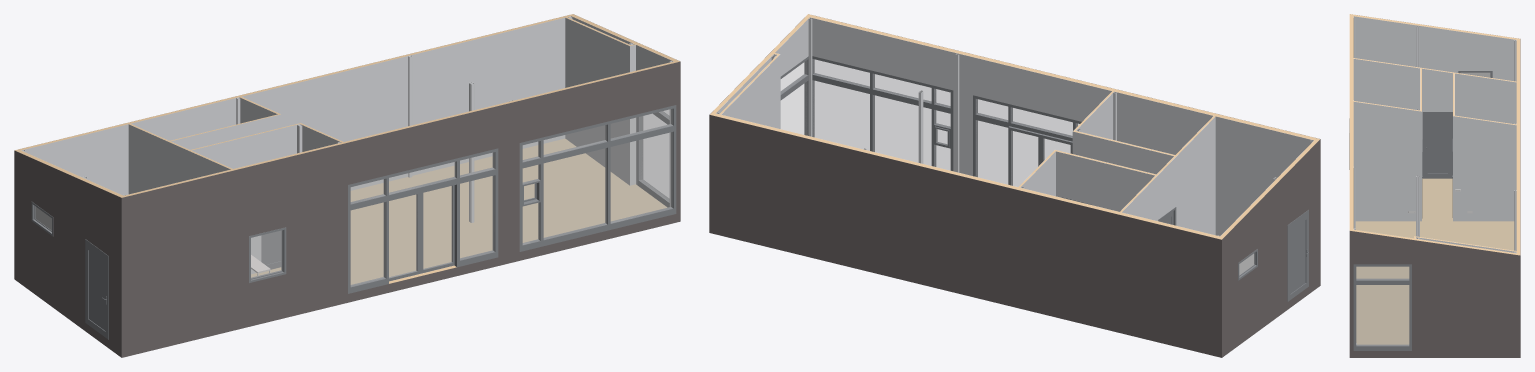
File: Alauša_R04.fbx
3 renders of one model, left to right at view 1: azimuth 30°, elevation 25°; view 2: azimuth 150°, elevation 25°; view 3: azimuth 270°, elevation 25°, orthographic. The views are drawn at different scales.
Visible parts, largest first — view 1: IfcWall/Part:2324350, IfcWall/Part:2323920, IfcSlab/Part:2323923, IfcWindow/Window (Alauša 2):Type 1:1922610, IfcDoor/Window (Alauša):Type 1:1896446, IfcWall/Part:2323912, IfcWall/Part:2324898, IfcWall/Part:2323909, IfcWall/Part:2323897, IfcWindow/Window (Alauša 4):Type 1:1926400, IfcDoor/Durys:1000x2100:1874505, IfcWindow/HM_Window_Frame_Masonry_4692:1000x1200:1879303 (+7 smaller); view 2: IfcWall/Part:2323921, IfcWall/Part:2323914, IfcWall/Part:2323912, IfcWindow/Window (Alauša 2):Type 1:1922610, IfcDoor/Window (Alauša):Type 1:1896446, IfcWall/Part:2323909, IfcWall/Part:2323901, IfcWall/Part:2324898, IfcWall/Part:2323898, IfcWindow/Window (Alauša 4):Type 1:1926400, IfcWall/Part:2323922, IfcWall/Part:2323916 (+7 smaller); view 3: IfcWall/Part:2323918, IfcSlab/Part:2323923, IfcWall/Part:2323903, IfcWall/Part:2323911, IfcWall/Part:2323894, IfcWindow/Window (Alauša 4):Type 1:1926400, IfcWall/Part:2323908, IfcWall/Part:2323907, IfcDoor/Durys:800x2100:1872854, IfcWall/Part:2323906, IfcWall/Part:2323922, IfcWall/Part:2323916 (+7 smaller).
Boxes of the visible parts, x1,y1,x2,y2 form: IfcWall/Part:2324350: (121, 61, 680, 357); IfcWall/Part:2323920: (24, 17, 567, 194); IfcSlab/Part:2323923: (251, 138, 666, 284); IfcWindow/Window (Alauša 2):Type 1:1922610: (519, 105, 676, 251); IfcDoor/Window (Alauša):Type 1:1896446: (348, 148, 498, 293); IfcWall/Part:2323912: (14, 150, 121, 357); IfcWall/Part:2324898: (565, 17, 629, 185); IfcWall/Part:2323909: (128, 124, 230, 194); IfcWall/Part:2323897: (191, 125, 296, 274); IfcWindow/Window (Alauša 4):Type 1:1926400: (637, 110, 669, 207); IfcDoor/Durys:1000x2100:1874505: (85, 239, 108, 339); IfcWindow/HM_Window_Frame_Masonry_4692:1000x1200:1879303: (249, 227, 286, 282); IfcWall/Part:2323921: (709, 114, 1221, 357); IfcWall/Part:2323914: (810, 17, 1313, 235); IfcWall/Part:2323912: (1222, 139, 1320, 357); IfcWindow/Window (Alauša 2):Type 1:1922610: (812, 56, 953, 170); IfcDoor/Window (Alauša):Type 1:1896446: (973, 95, 1081, 186); IfcWall/Part:2323909: (1122, 117, 1215, 235); IfcWall/Part:2323901: (1056, 151, 1154, 211); IfcWall/Part:2324898: (721, 54, 780, 128); IfcWall/Part:2323898: (1072, 131, 1173, 174); IfcWindow/Window (Alauša 4):Type 1:1926400: (780, 56, 808, 135); IfcWall/Part:2323922: (710, 112, 1223, 239); IfcWall/Part:2323916: (810, 15, 1319, 141); IfcWall/Part:2323918: (1349, 231, 1520, 357); IfcSlab/Part:2323923: (1355, 178, 1514, 344); IfcWall/Part:2323903: (1353, 101, 1421, 221); IfcWall/Part:2323911: (1354, 16, 1515, 80); IfcWall/Part:2323894: (1453, 116, 1516, 221); IfcWindow/Window (Alauša 4):Type 1:1926400: (1353, 264, 1411, 350); IfcWall/Part:2323908: (1353, 59, 1419, 109); IfcWall/Part:2323907: (1455, 73, 1516, 123); IfcDoor/Durys:800x2100:1872854: (1422, 112, 1452, 178); IfcWall/Part:2323906: (1422, 68, 1452, 175); IfcWall/Part:2323922: (1516, 38, 1520, 255); IfcWall/Part:2323916: (1349, 14, 1353, 229).
Bounding box in the file's own units: 1506 × 410 × 501.
